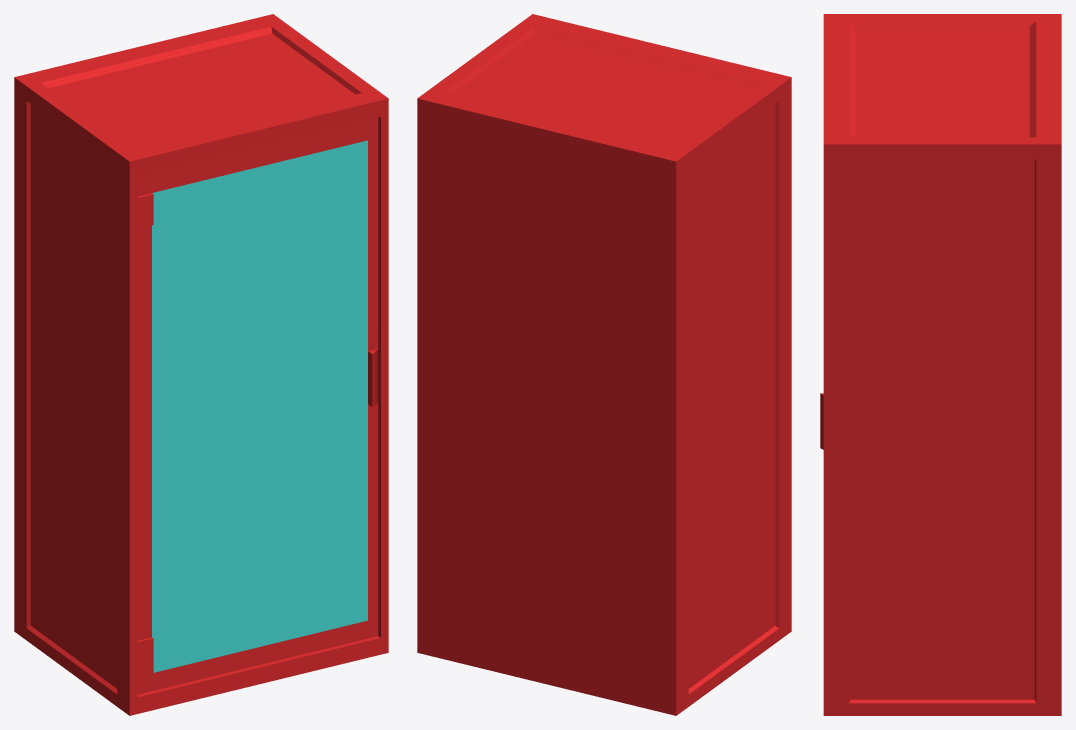
File: Fireblob.fbx
The picture shows the model from 3 angles, left to right: view 1: azimuth 30°, elevation 25°; view 2: azimuth 150°, elevation 25°; view 3: azimuth 270°, elevation 25°; orthographic projection. The views are drawn at different scales.
Visible parts, largest first — view 1: Door, Box; view 2: Box; view 3: Box.
Boxes of the visible parts, x1=… form: Door: x1=137, y1=117, x2=378, y2=694; Box: x1=14, y1=14, x2=388, y2=715; Box: x1=417, y1=14, x2=791, y2=715; Box: x1=823, y1=14, x2=1061, y2=715.
Size of the model in its own units: 42.17 by 86.24 by 33.03.
